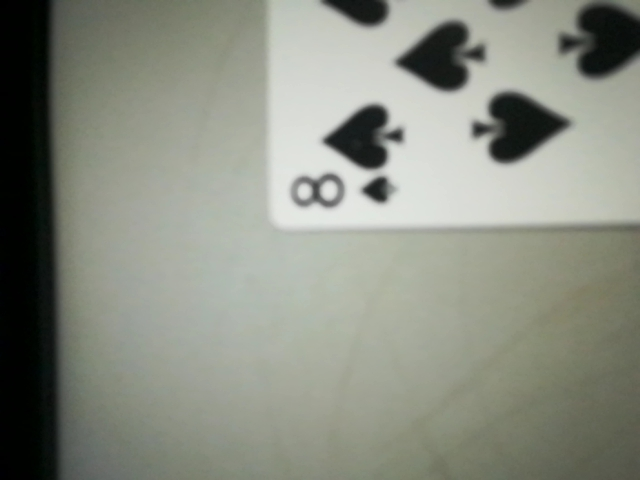ht 8: (273, 155, 406, 227)
